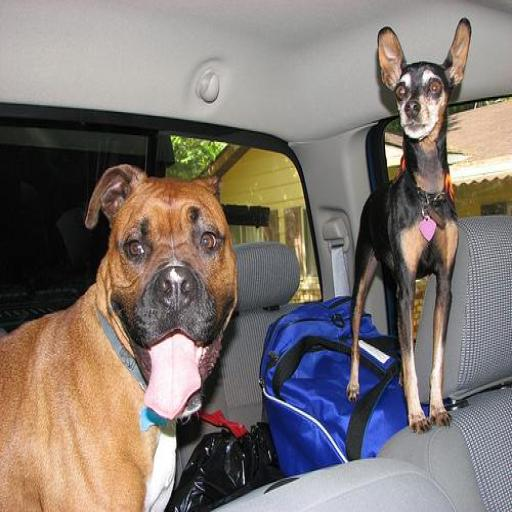dog_face: (86, 156, 233, 390), (370, 14, 472, 148)
